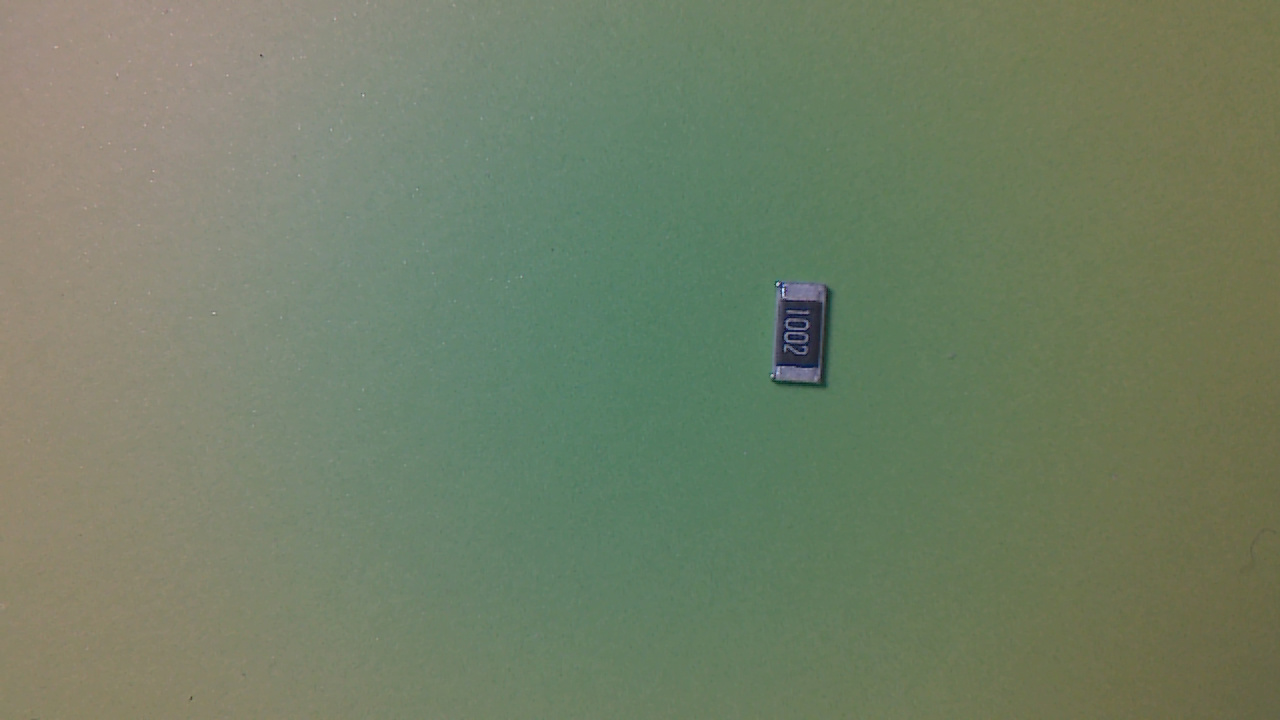Resistor: (771, 283, 838, 398)
